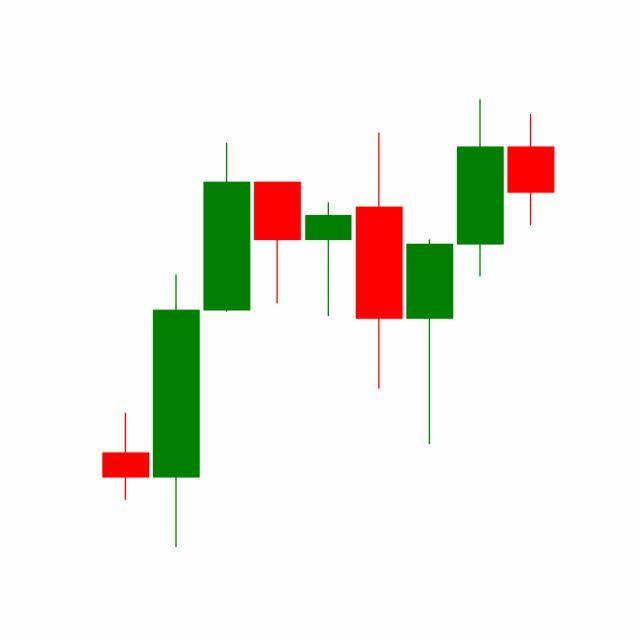Hikkake Pattern: (252, 99, 506, 449)
